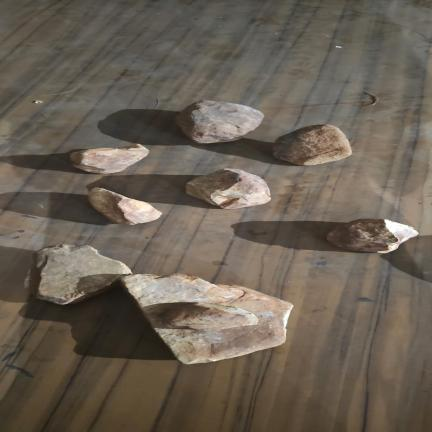Rocks: (122, 275, 292, 363), (26, 245, 131, 304), (176, 101, 263, 143), (186, 169, 270, 208), (273, 125, 351, 165), (328, 219, 418, 252), (147, 303, 258, 329), (89, 188, 162, 224), (70, 144, 148, 173)
